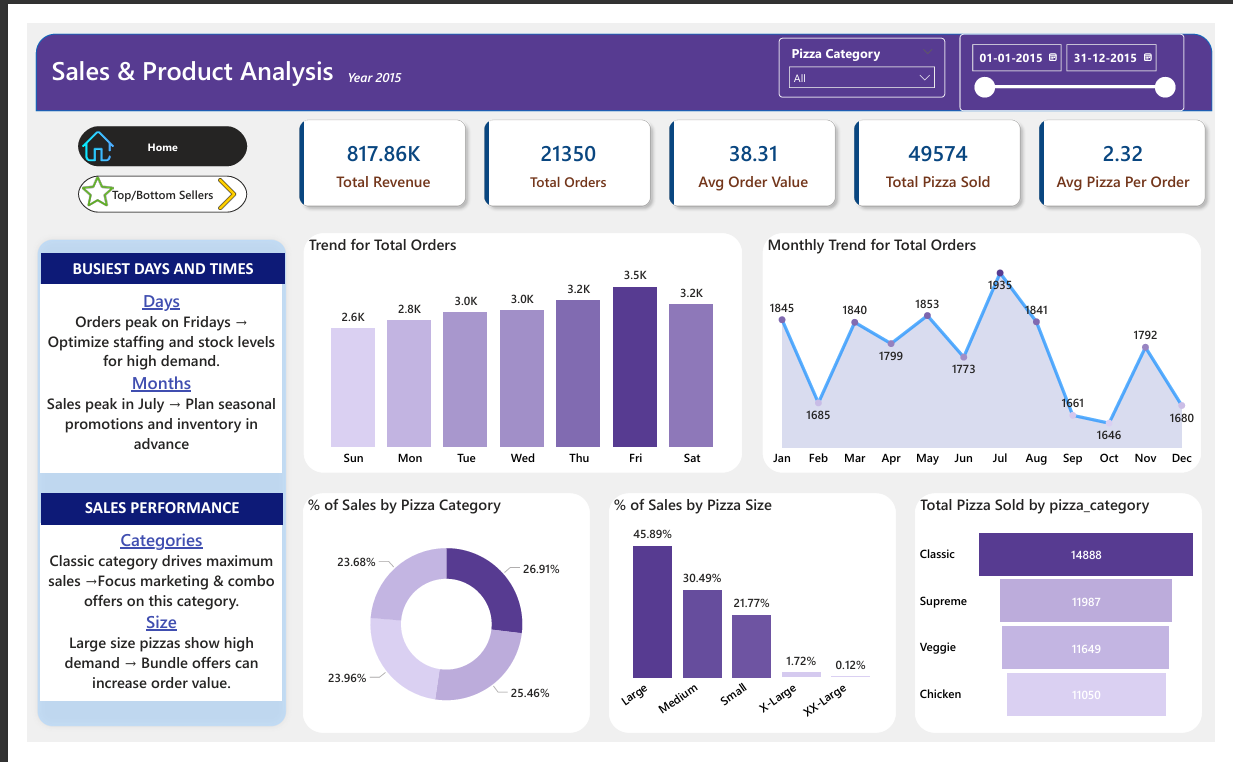

The page's visual inventory and layout, read from the dashboard file:
{"tool":"powerbi","page":{"name":"Home","canvas":[1490,900],"ordinal":0},"visuals":[{"type":"shape","box":[11.3,12.9,1475.8,96.8],"z":0},{"type":"shape","box":[5.2,262.9,327.4,625.8],"z":1000},{"type":"cardVisual","fields":{"Data":["pizza_sales.Total Revenue","pizza_sales.Total Orders","pizza_sales.Avg Order Value","pizza_sales.Total Pizza Sold","pizza_sales.Avg Pizza sold Per Order"]},"box":[330.3,109.5,1160,131.7],"z":2000},{"type":"textbox","box":[17.7,30.6,379,62.9],"z":3000},{"type":"textbox","box":[396.8,45.2,125.8,48.4],"z":4000},{"type":"columnChart","title":"Trend for Total Orders","fields":{"Category":["pizza_sales.order_date.Variation.Date Hierarchy.Year","pizza_sales.order_date.Variation.Date Hierarchy.Quarter","pizza_sales.order_date.Variation.Date Hierarchy.Month","pizza_sales.Order Day"],"Y":["pizza_sales.Total Orders"]},"box":[347.1,262.9,550,300],"z":8000},{"type":"areaChart","title":"Monthly Trend for Total Orders","fields":{"Y":["pizza_sales.Total Orders"],"Category":["pizza_sales.Order Month"]},"box":[923,262.9,550,300],"z":9000},{"type":"donutChart","title":"% of Sales by Pizza Category","fields":{"Y":["Sum(pizza_sales.total_price)"],"Category":["pizza_sales.pizza_category"]},"box":[346.3,588.6,360,300],"z":13000},{"type":"columnChart","title":"% of Sales by Pizza Size","fields":{"Category":["pizza_sales.pizza_size"],"Y":["#Measures Table.% of Total Sales by Size"]},"box":[730.1,588.6,360,300],"z":14000},{"type":"funnel","fields":{"Y":["pizza_sales.Total Pizza Sold"],"Category":["pizza_sales.pizza_category"]},"box":[1113.9,588.6,360,300],"z":15000},{"type":"textbox","box":[18.1,288.7,304.8,38.7],"z":16000},{"type":"textbox","box":[16.5,627.4,303.2,222.6],"z":17000},{"type":"textbox","box":[16.5,327.4,303.2,235.5],"z":18000},{"type":"textbox","box":[18.1,588.7,303.2,40.3],"z":19000},{"type":"slicer","fields":{"Values":["pizza_sales.pizza_category"]},"box":[943.3,18.3,208.3,75],"z":20000},{"type":"slicer","fields":{"Values":["pizza_sales.order_date"]},"box":[1170,13.3,281.7,96.7],"z":21000},{"type":"pageNavigator","box":[64.3,128.6,211.4,50],"z":22000},{"type":"pageNavigator","box":[64.3,191.4,211.4,45.7],"z":23000},{"type":"image","box":[57.1,134.3,64.3,40],"z":24000},{"type":"image","box":[57.1,191.4,63,39],"z":25000},{"type":"image","box":[225.7,194.3,50,40],"z":26000}]}

Visuals, with their boxes in screenshot pixels (x1, y1, x2, y2), scaled from the page's 1490x900 canvas onto the 1233x762 screenshot:
shape: locate(9, 11, 1231, 93)
shape: locate(4, 223, 275, 752)
cardVisual - pizza_sales.Total Revenue x pizza_sales.Total Orders: locate(273, 93, 1232, 204)
textbox: locate(15, 26, 328, 79)
textbox: locate(328, 38, 432, 79)
"Trend for Total Orders" columnChart: locate(287, 223, 742, 477)
"Monthly Trend for Total Orders" areaChart: locate(764, 223, 1219, 477)
"% of Sales by Pizza Category" donutChart: locate(287, 498, 584, 752)
"% of Sales by Pizza Size" columnChart: locate(604, 498, 902, 752)
funnel - pizza_sales.Total Pizza Sold x pizza_sales.pizza_category: locate(922, 498, 1220, 752)
textbox: locate(15, 244, 267, 277)
textbox: locate(14, 531, 265, 720)
textbox: locate(14, 277, 265, 477)
textbox: locate(15, 498, 266, 533)
slicer - pizza_sales.pizza_category: locate(781, 15, 953, 79)
slicer - pizza_sales.order_date: locate(968, 11, 1201, 93)
pageNavigator: locate(53, 109, 228, 151)
pageNavigator: locate(53, 162, 228, 201)
image: locate(47, 114, 100, 148)
image: locate(47, 162, 99, 195)
image: locate(187, 165, 228, 198)
